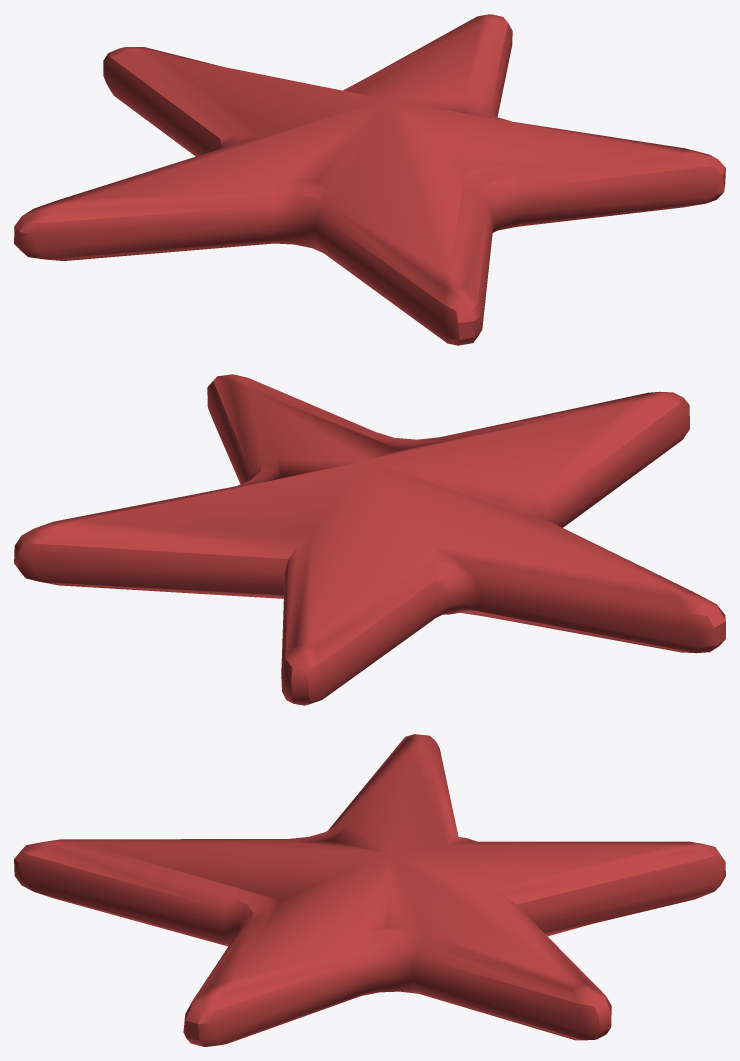
File: zvezda2.fbx
3 renders of one model, top to bottom at view 1: azimuth 30°, elevation 25°; view 2: azimuth 150°, elevation 25°; view 3: azimuth 270°, elevation 25°, orthographic. The views are drawn at different scales.
Visible parts, largest first — view 1: zvezda2; view 2: zvezda2; view 3: zvezda2.
Part boxes in pixels (<box>): zvezda2: <box>14,14,725,345</box>; zvezda2: <box>14,374,725,705</box>; zvezda2: <box>14,734,725,1046</box>.
Size of the model in its own units: 37.82 by 7.89 by 39.93.
